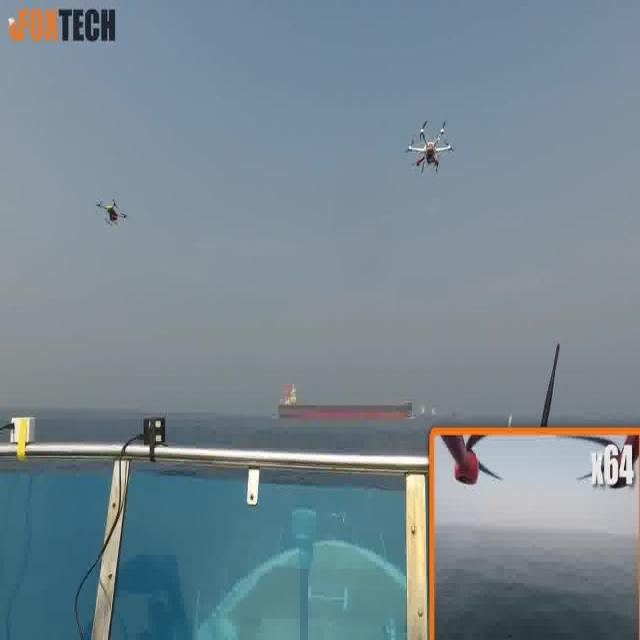drone: (402, 118, 456, 181), (90, 196, 130, 234)
